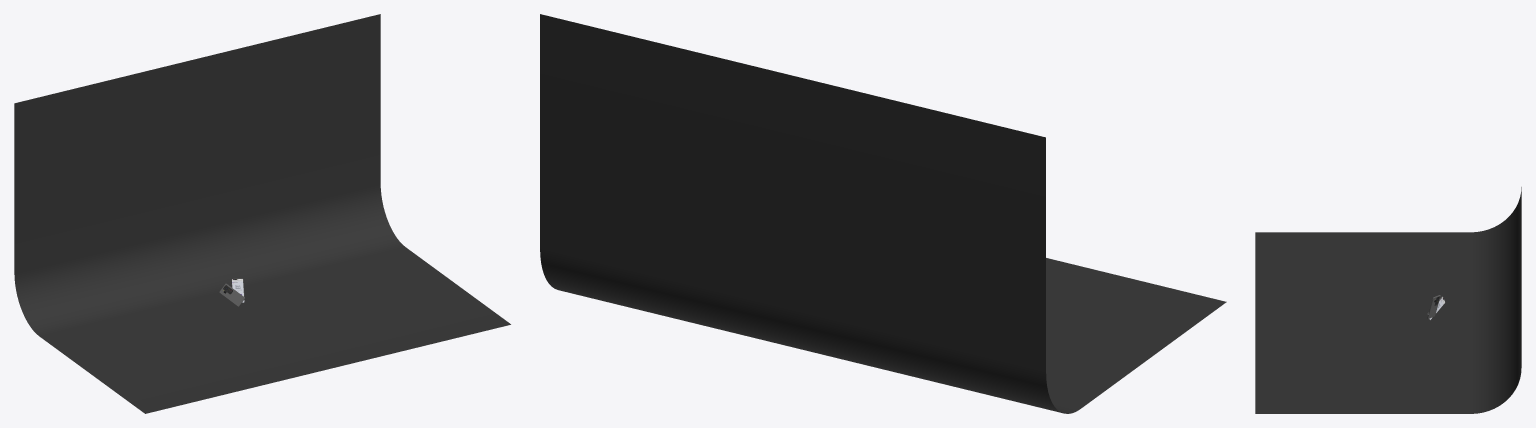
Rendered from android_concept.glb.
3 renders of one model, left to right at view 1: azimuth 30°, elevation 25°; view 2: azimuth 150°, elevation 25°; view 3: azimuth 270°, elevation 25°, orthographic. The views are drawn at different scales.
Visible parts, largest first — view 1: Plane.010_12; view 2: Plane.010_12; view 3: Plane.010_12.
Part boxes in pixels (x1,y1,x2,y2): Plane.010_12: (14,14,510,413); Plane.010_12: (540,14,1226,413); Plane.010_12: (1255,187,1521,413).
Bounding box in the file's own units: 19.77 × 11.08 × 12.23.
13 materials, 1 textured.
